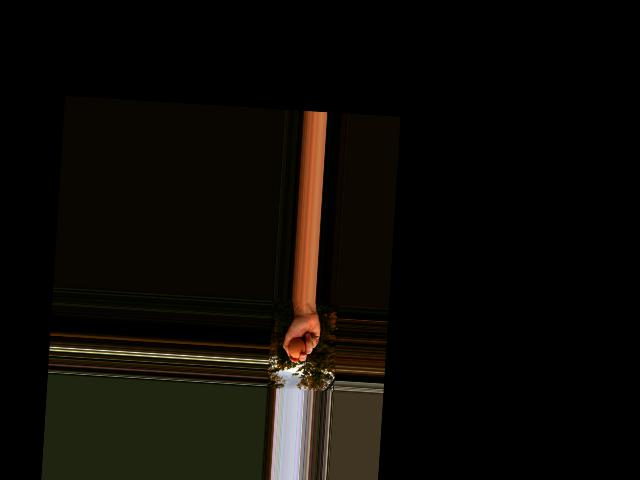egg: (288, 337, 306, 358)
